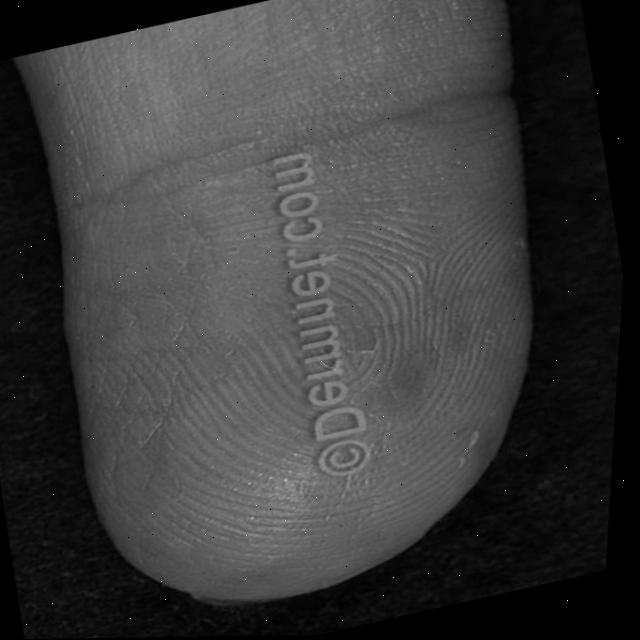Eczema: (34, 98, 554, 639)
